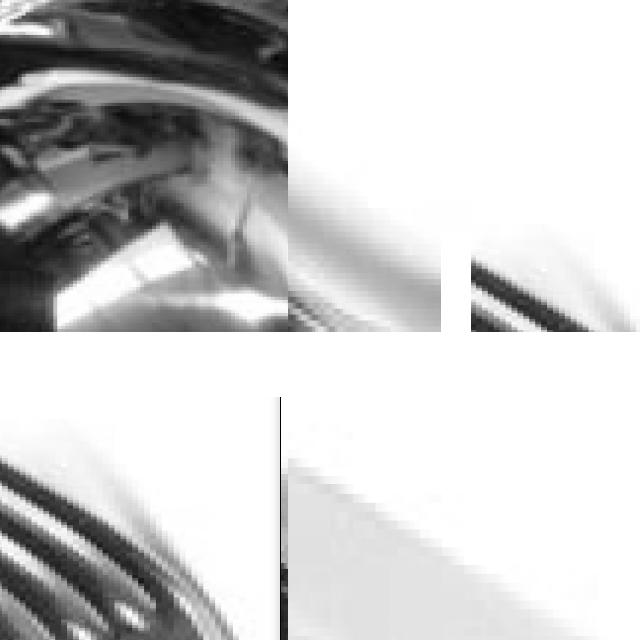forks: (0, 412, 288, 640), (456, 217, 640, 332)
spoons: (0, 0, 288, 332)
